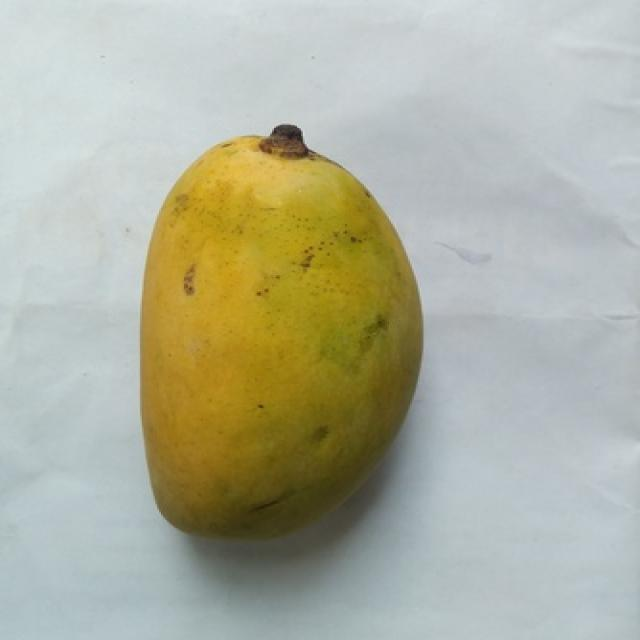Mango: (142, 136, 422, 536)
